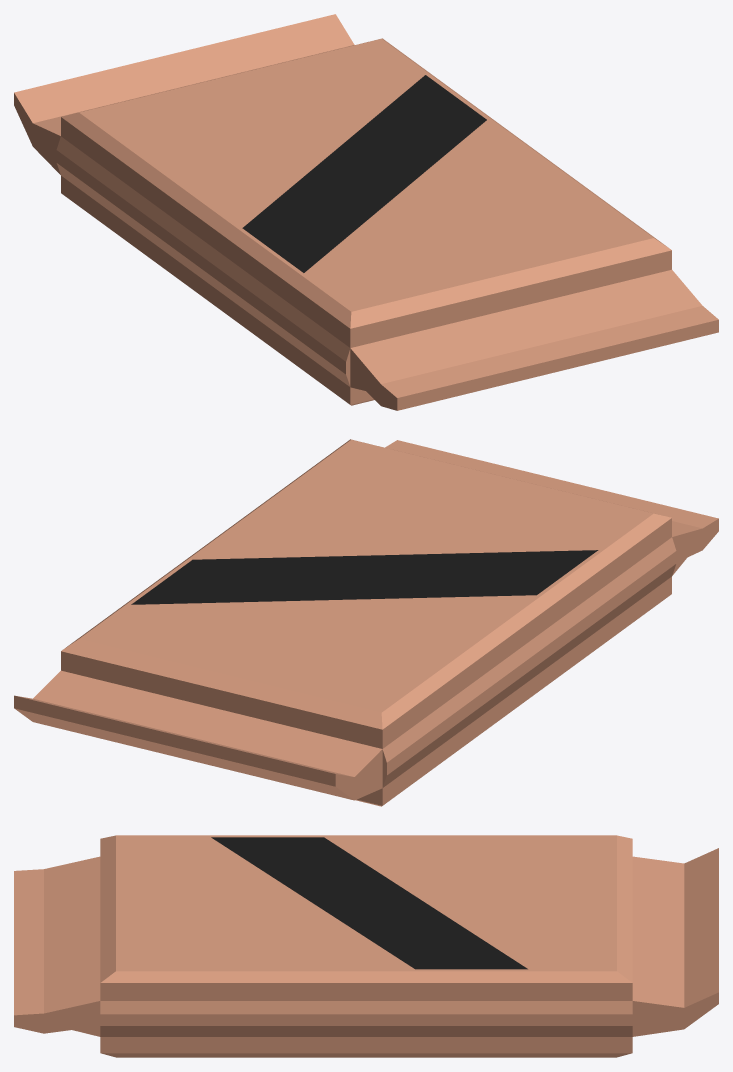
The model's file is MRE.fbx.
3 views of the same model, one above another, from view 1: azimuth 30°, elevation 25°; view 2: azimuth 150°, elevation 25°; view 3: azimuth 270°, elevation 25° (orthographic). The views are drawn at different scales.
Visible parts, largest first — view 1: Cube; view 2: Cube; view 3: Cube.
Part boxes in pixels (bbox=[...]): Cube: bbox=[14, 14, 718, 410]; Cube: bbox=[14, 439, 718, 806]; Cube: bbox=[14, 835, 718, 1057].
Bounding box in the file's own units: 41.02 × 11.16 × 82.54.
